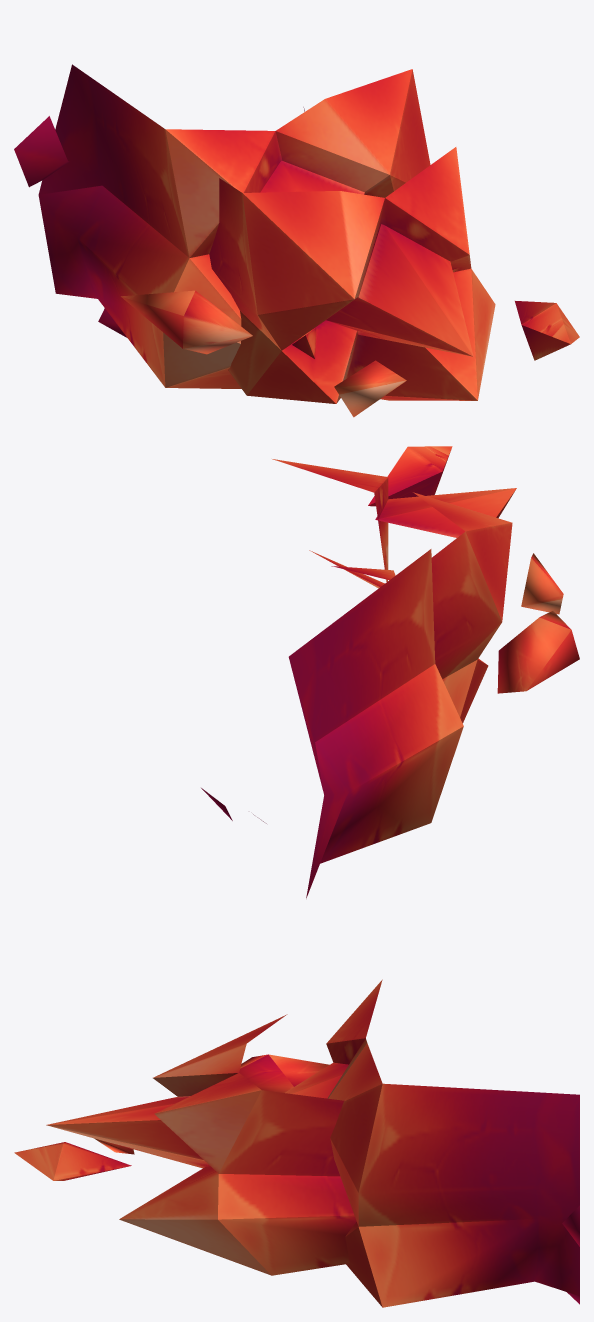
Rendered from model_placeable.glb.
3 views of the same model, one above another, from view 1: azimuth 30°, elevation 25°; view 2: azimuth 150°, elevation 25°; view 3: azimuth 270°, elevation 25° (orthographic). The views are drawn at different scales.
Visible parts, largest first — view 1: mineral node.model_placeable-MeshNodes["base"], mineral node.model_placeable-MeshNodes["shard1"], mineral node.model_placeable-MeshNodes["shard3"], mineral node.model_placeable-MeshNodes["shard2"]; view 2: mineral node.model_placeable-MeshNodes["base"], mineral node.model_placeable-MeshNodes["shard1"], mineral node.model_placeable-MeshNodes["shard3"], mineral node.model_placeable-MeshNodes["shard2"]; view 3: mineral node.model_placeable-MeshNodes["base"], mineral node.model_placeable-MeshNodes["shard3"], mineral node.model_placeable-MeshNodes["shard1"].
Boxes of the visible parts, x1=… form: mineral node.model_placeable-MeshNodes["base"]: x1=14, y1=64, x2=495, y2=403; mineral node.model_placeable-MeshNodes["shard1"]: x1=121, y1=290, x2=252, y2=354; mineral node.model_placeable-MeshNodes["shard3"]: x1=515, y1=301, x2=579, y2=360; mineral node.model_placeable-MeshNodes["shard2"]: x1=334, y1=360, x2=406, y2=417; mineral node.model_placeable-MeshNodes["base"]: x1=201, y1=459, x2=516, y2=898; mineral node.model_placeable-MeshNodes["shard1"]: x1=497, y1=611, x2=579, y2=693; mineral node.model_placeable-MeshNodes["shard3"]: x1=368, y1=446, x2=452, y2=506; mineral node.model_placeable-MeshNodes["shard2"]: x1=521, y1=553, x2=563, y2=614; mineral node.model_placeable-MeshNodes["base"]: x1=46, y1=979, x2=579, y2=1307; mineral node.model_placeable-MeshNodes["shard3"]: x1=14, y1=1142, x2=131, y2=1180; mineral node.model_placeable-MeshNodes["shard1"]: x1=239, y1=1054, x2=329, y2=1092.
Bounding box in the file's own units: 1.69 × 1.47 × 2.76.
1 material, 1 textured.
